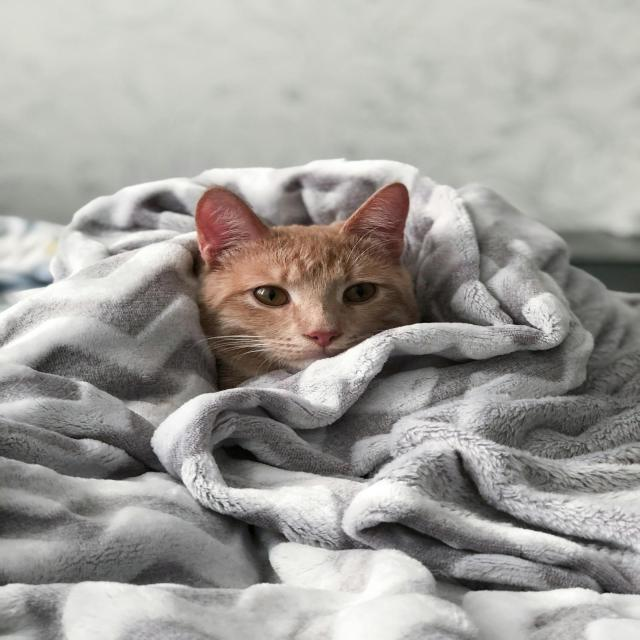Cat: (192, 181, 422, 390)
